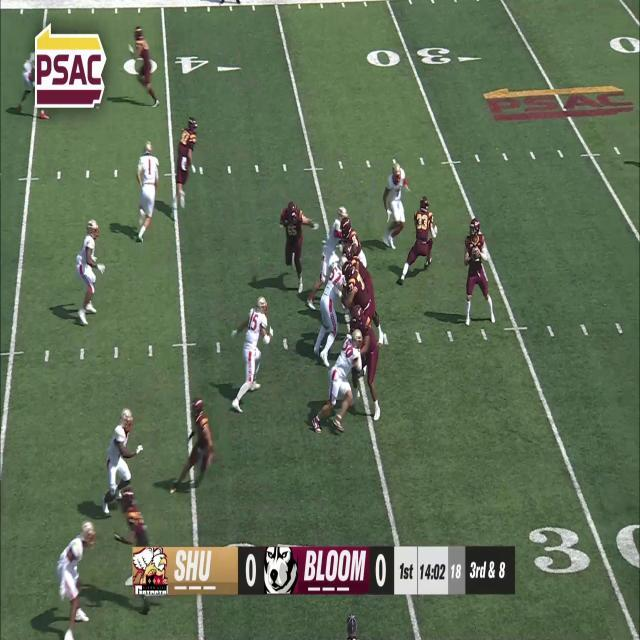football: (472, 245, 482, 262)
